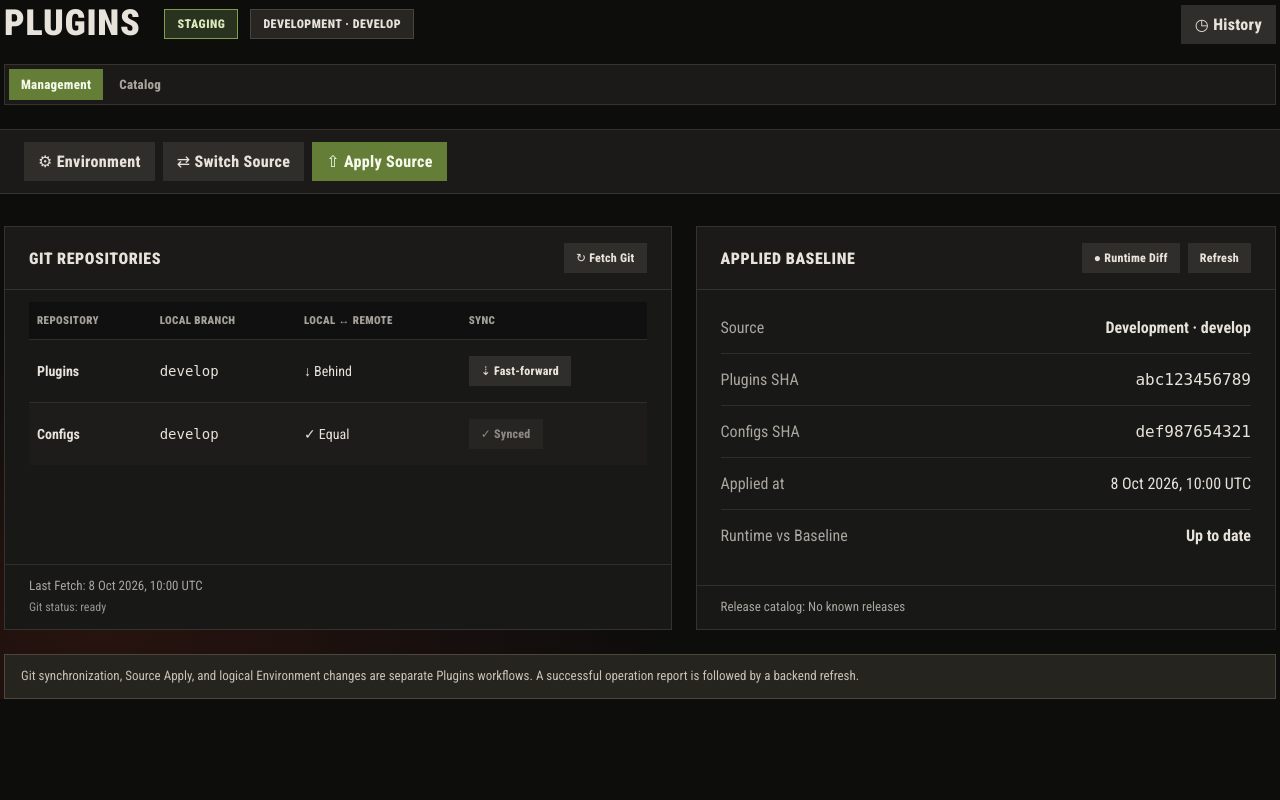
Test: Plugins management workflows › uses Git Sync for a reported fast-forward instead of inventing an action endpoint
What coordinates should you click on to do the following:
click the button with aria-label "Plugins ⇣ Fast-forward"
I would click on:
 (520, 371)
Its box is [469,356,571,386].
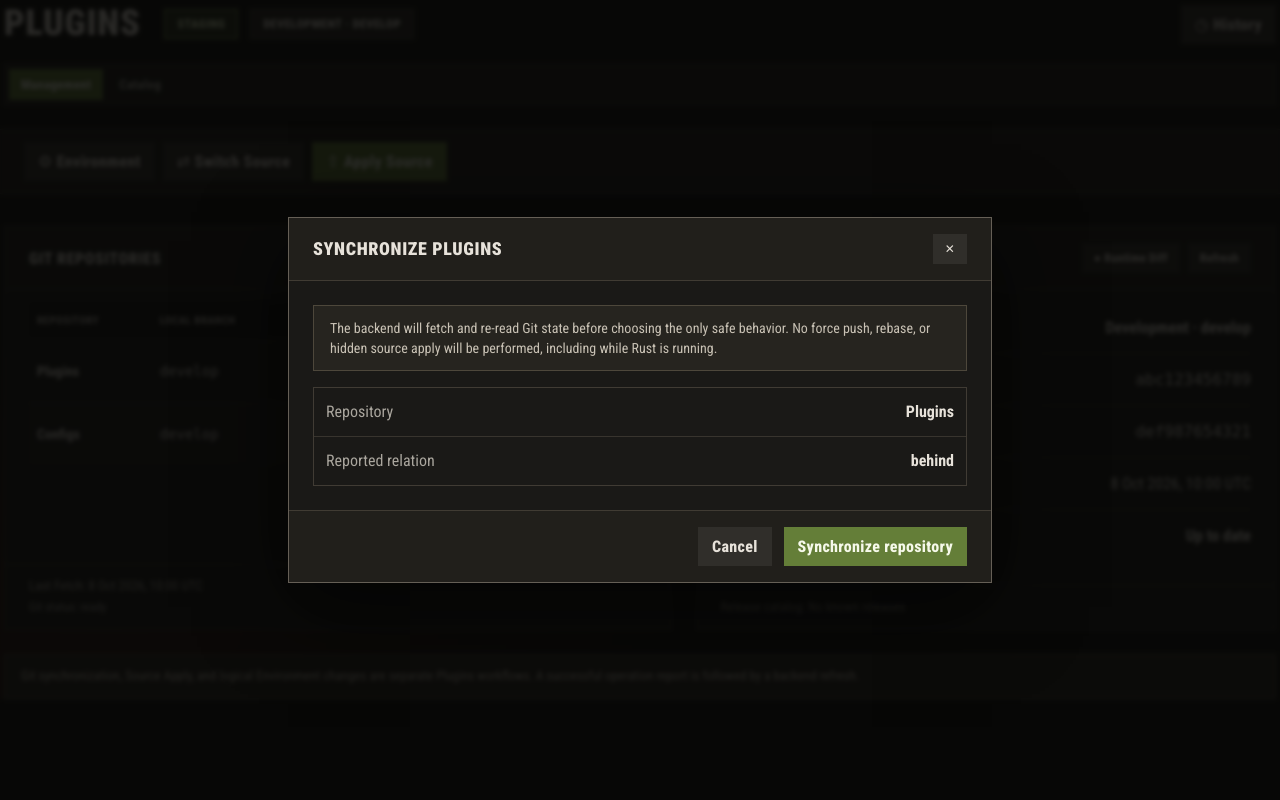
Expected: the text "Reported relation" is shown, [326,449,435,473]
What coordinates should you click on to do the following:
click the button "Synchronize repository"
I would click on:
 (875, 547)
Its box is [784,527,967,566].
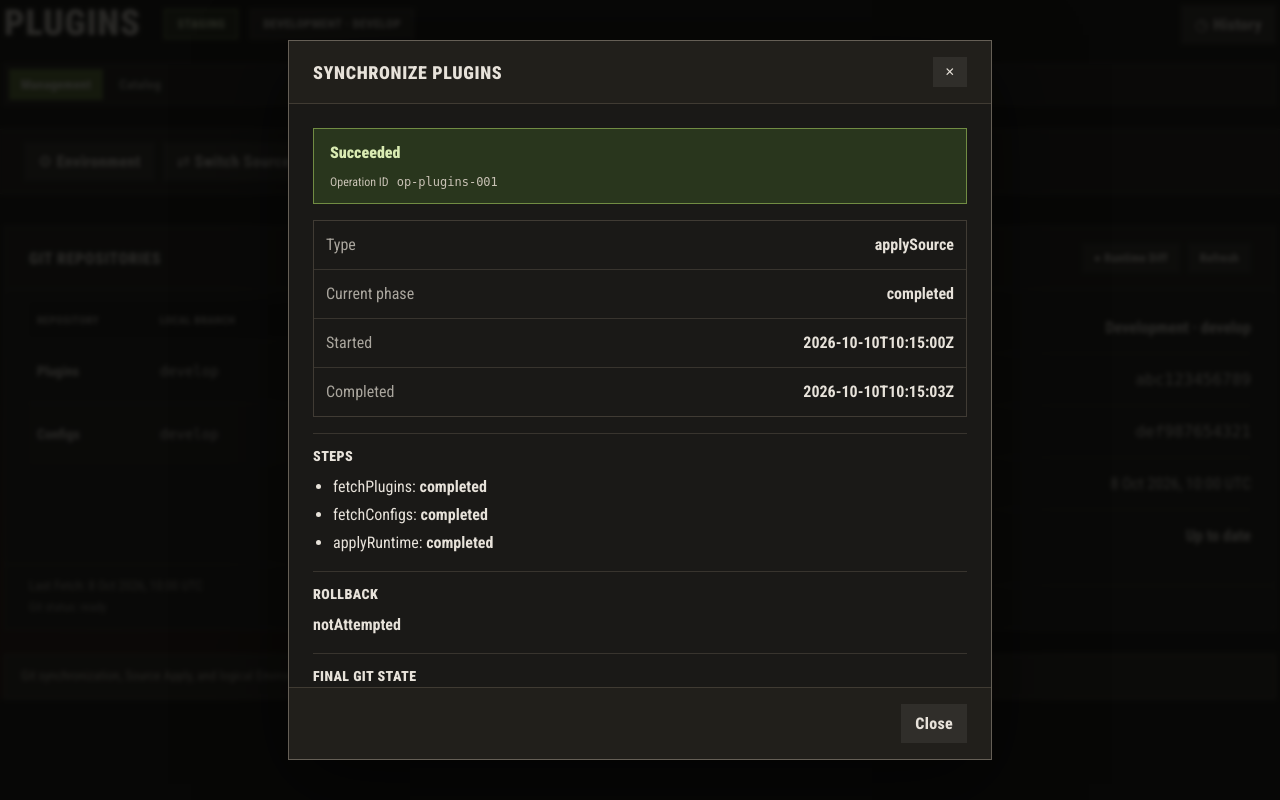
Expected: the text "Succeeded" is shown, [330,143,400,162]
